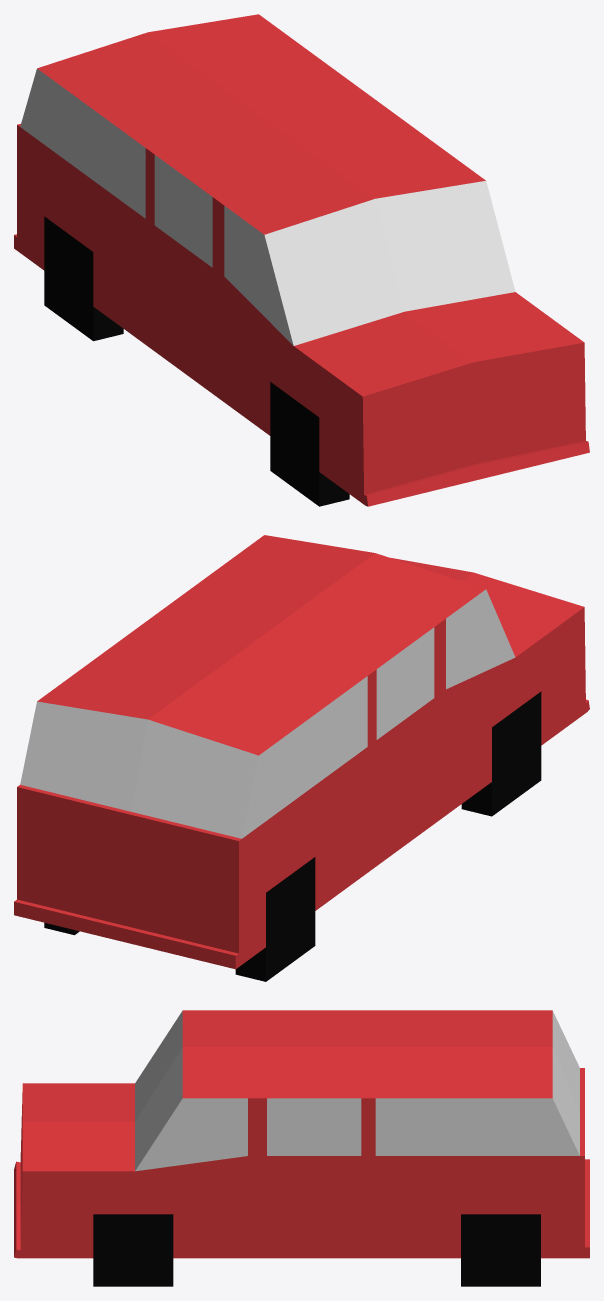
Rendered from SUV.fbx.
The picture shows the model from 3 angles, top to bottom: view 1: azimuth 30°, elevation 25°; view 2: azimuth 150°, elevation 25°; view 3: azimuth 270°, elevation 25°; orthographic projection. The views are drawn at different scales.
Parts seen in each view (by area): view 1: SUV; view 2: SUV; view 3: SUV.
Boxes of the visible parts, x1,y1,x2,y2 form: SUV: (14, 14, 589, 506); SUV: (14, 535, 589, 981); SUV: (14, 1010, 589, 1286).
Bounding box in the file's own units: 2.05 × 2.13 × 5.68.
